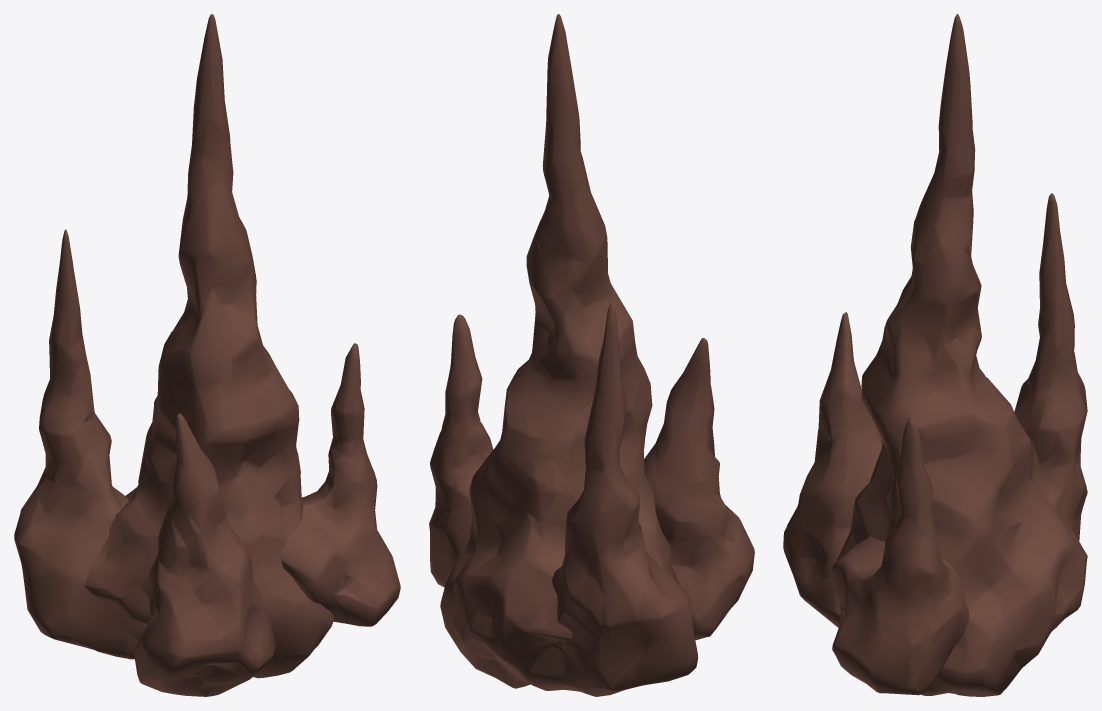
Rendered from hvs_fillers_stalagmitestonelarge01.fbx.
3 renders of one model, left to right at view 1: azimuth 30°, elevation 25°; view 2: azimuth 150°, elevation 25°; view 3: azimuth 270°, elevation 25°, orthographic.
Parts seen in each view (by area): view 1: Cone.010; view 2: Cone.010; view 3: Cone.010.
Part boxes in pixels (x1,y1,x2,y2): Cone.010: [14, 14, 400, 696]; Cone.010: [429, 14, 754, 696]; Cone.010: [783, 14, 1087, 696].
Bounding box in the file's own units: 14.77 × 30.4 × 12.57.
